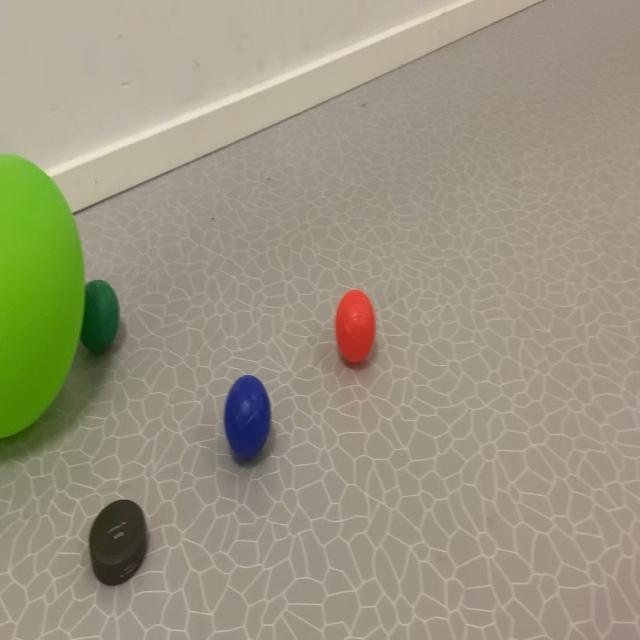7: (330, 252, 393, 409)
blue ball: (87, 243, 414, 482)
green ball: (218, 348, 290, 483)
red ball: (77, 270, 130, 351)
